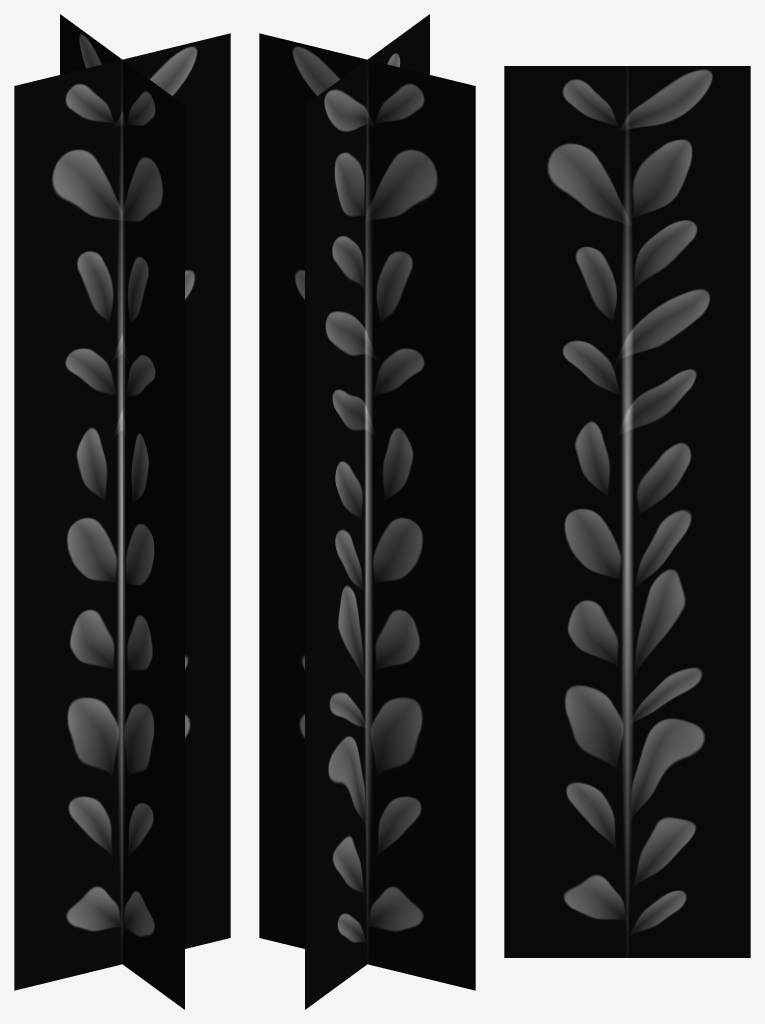
The model's file is Fern.fbx.
3 renders of one model, left to right at view 1: azimuth 30°, elevation 25°; view 2: azimuth 150°, elevation 25°; view 3: azimuth 270°, elevation 25°, orthographic.
Visible parts, largest first — view 1: Fern; view 2: Fern; view 3: Fern.
Boxes of the visible parts, x1,y1,x2,y2 form: Fern: [14, 14, 230, 1009]; Fern: [259, 14, 475, 1009]; Fern: [504, 66, 750, 957].
Size of the model in its own units: 0.3 by 1.2 by 0.3.
1 material, 1 textured.
